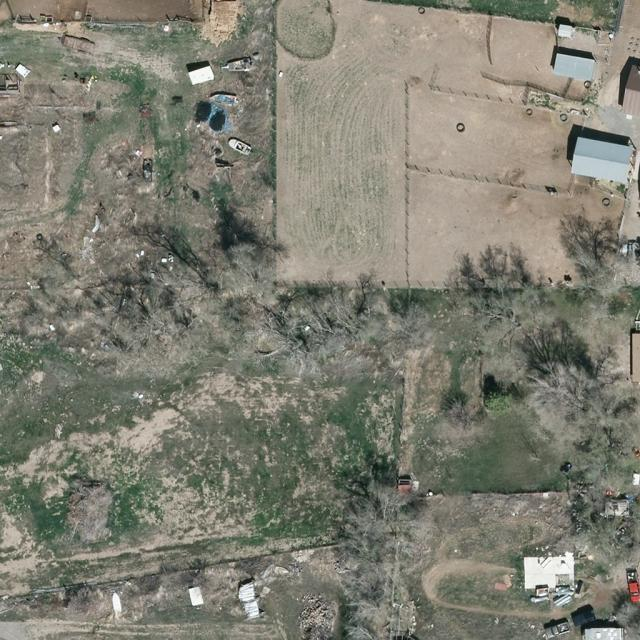vehicle: (572, 610, 598, 628), (626, 570, 640, 603), (544, 622, 571, 637)
